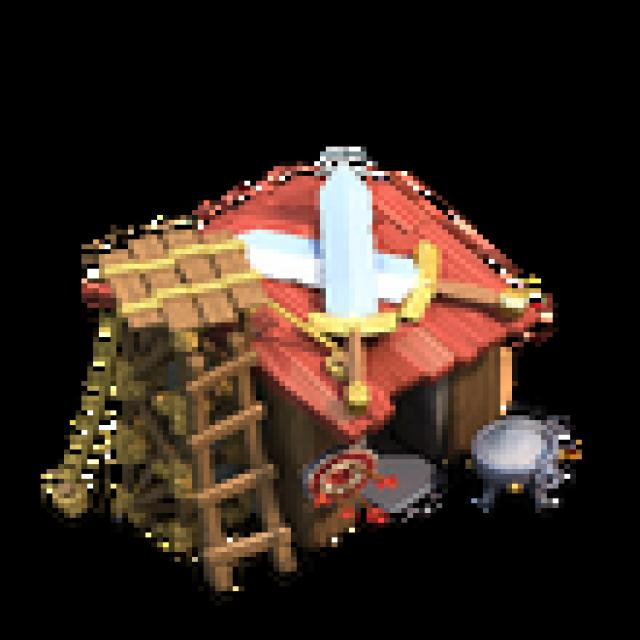barracks: (14, 134, 626, 590)
